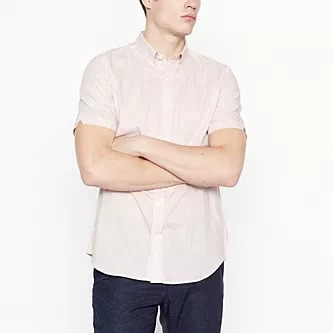C_shirt: (70, 35, 242, 292)
